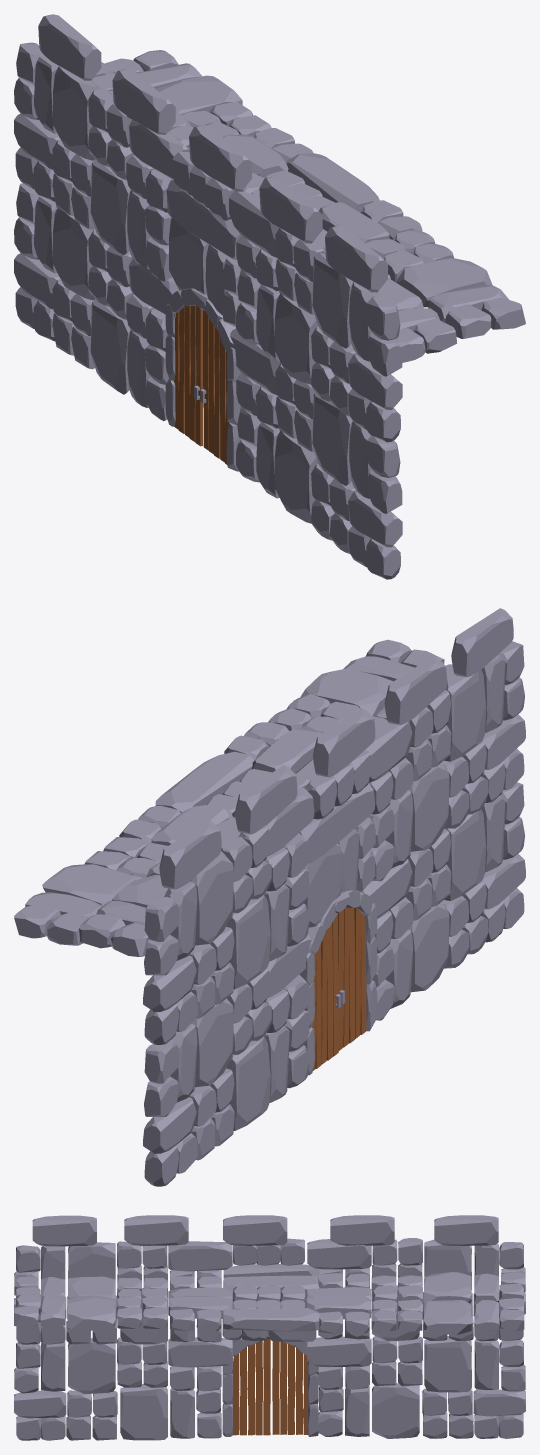
File: benteng.fbx
3 renders of one model, top to bottom at view 1: azimuth 30°, elevation 25°; view 2: azimuth 150°, elevation 25°; view 3: azimuth 270°, elevation 25°, orthographic. The views are drawn at different scales.
Parts seen in each view (by area): view 1: Cube.129; view 2: Cube.129; view 3: Cube.129.
Part boxes in pixels (x1,y1,x2,y2): Cube.129: [14, 14, 525, 579]; Cube.129: [14, 608, 525, 1186]; Cube.129: [14, 1215, 525, 1440].
Bounding box in the file's own units: 695 × 1322 × 2790.
